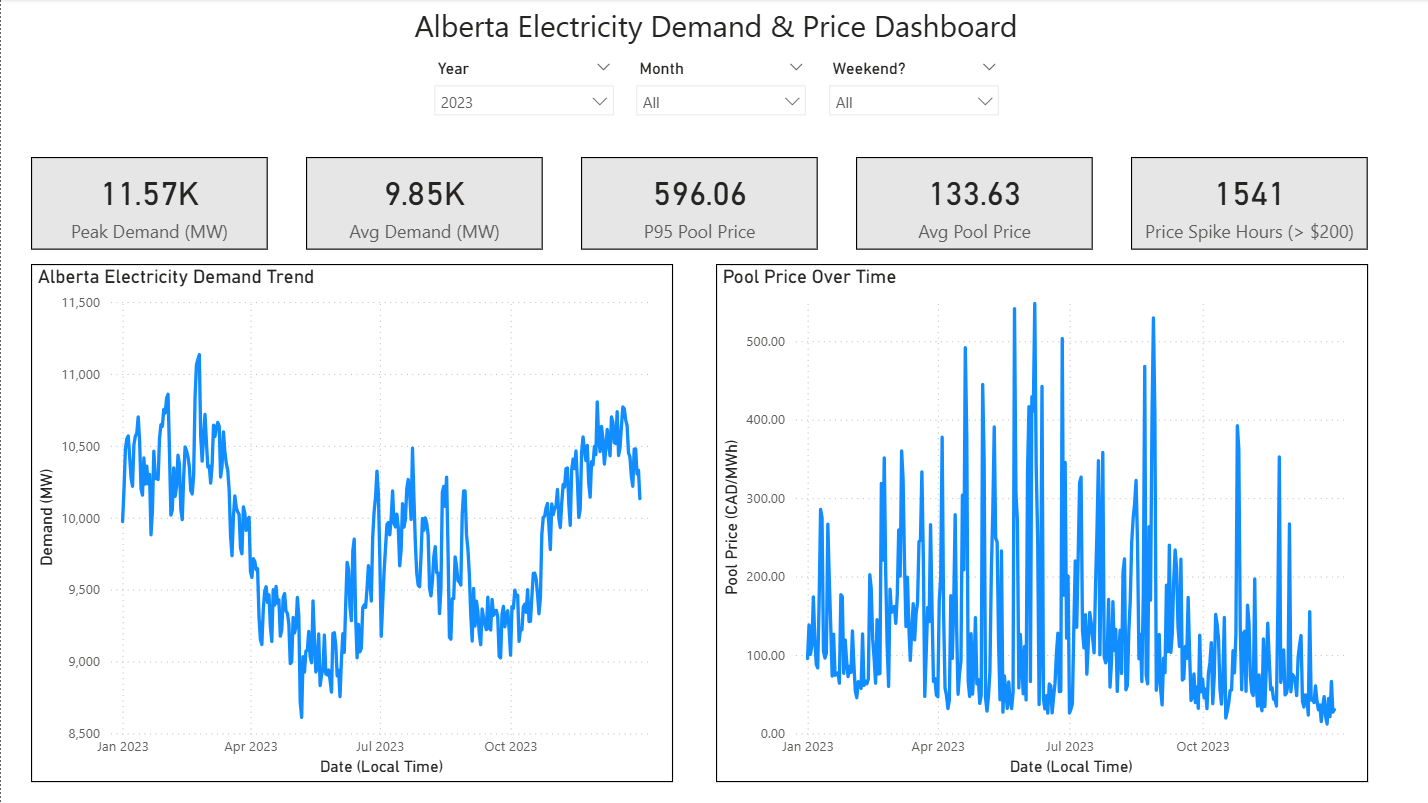

The dashboard page shown, as its layout file describes it:
{"tool":"powerbi","page":{"name":"Main","canvas":[1280,720],"ordinal":0},"visuals":[{"type":"lineChart","title":"Alberta Electricity Demand Trend","fields":{"Y":["Avg(analytics fact_demand.demand_mw)"],"Category":["analytics dim_date_hour.date_local"]},"box":[26.5,237.6,575.3,464.3],"z":0},{"type":"card","fields":{"Values":["analytics dim_date_hour.Peak Demand (MW)"]},"box":[26.5,141.1,212.3,83.2],"z":1000},{"type":"slicer","fields":{"Values":["analytics dim_date_hour.year"]},"box":[377.5,49.4,180.9,77.2],"z":2000,"group":"g1"},{"type":"lineChart","title":"Pool Price Over Time","fields":{"Category":["analytics dim_date_hour.date_local"],"Y":["Avg(analytics fact_pool_price.pool_price)"]},"box":[640.4,237.6,583.7,464.3],"z":2000},{"type":"card","fields":{"Values":["analytics dim_date_hour.Avg Demand (MW)"]},"box":[272.9,141.1,212.3,83.2],"z":3000},{"type":"card","fields":{"Values":["analytics dim_date_hour.P95 Pool Price"]},"box":[519.2,141.1,212.3,83.2],"z":4000},{"type":"textbox","box":[348.1,0,583.7,49.4],"z":5000},{"type":"slicer","fields":{"Values":["analytics dim_date_hour.month_name"]},"box":[558.4,49.4,172.5,77.2],"z":5000,"group":"g1"},{"type":"card","fields":{"Values":["analytics dim_date_hour.Avg Pool Price"]},"box":[765.5,141.1,212.3,83.2],"z":6000},{"type":"slicer","fields":{"Values":["analytics dim_date_hour.is_weekend"]},"box":[730.9,49.4,172.5,77.2],"z":7000,"group":"g1"},{"type":"card","fields":{"Values":["analytics dim_date_hour.Hours Price > 200"]},"box":[1011.9,141.1,212.3,83.2],"z":7000},{"type":"group","id":"g1","title":"Group 1","box":[377.5,49.4,525.8,77.2],"z":8000}]}

Visuals, with their boxes in screenshot pixels (x1, y1, x2, y2), scaled from the page's 1280x720 canvas onto the 1428x803 screenshot:
"Alberta Electricity Demand Trend" lineChart: locate(30, 265, 671, 783)
card - analytics dim_date_hour.Peak Demand (MW): locate(30, 157, 266, 250)
slicer - analytics dim_date_hour.year: locate(421, 55, 623, 141)
"Pool Price Over Time" lineChart: locate(714, 265, 1366, 783)
card - analytics dim_date_hour.Avg Demand (MW): locate(304, 157, 541, 250)
card - analytics dim_date_hour.P95 Pool Price: locate(579, 157, 816, 250)
textbox: locate(388, 0, 1040, 55)
slicer - analytics dim_date_hour.month_name: locate(623, 55, 815, 141)
card - analytics dim_date_hour.Avg Pool Price: locate(854, 157, 1091, 250)
slicer - analytics dim_date_hour.is_weekend: locate(815, 55, 1008, 141)
card - analytics dim_date_hour.Hours Price > 200: locate(1129, 157, 1366, 250)
"Group 1" group: locate(421, 55, 1008, 141)
